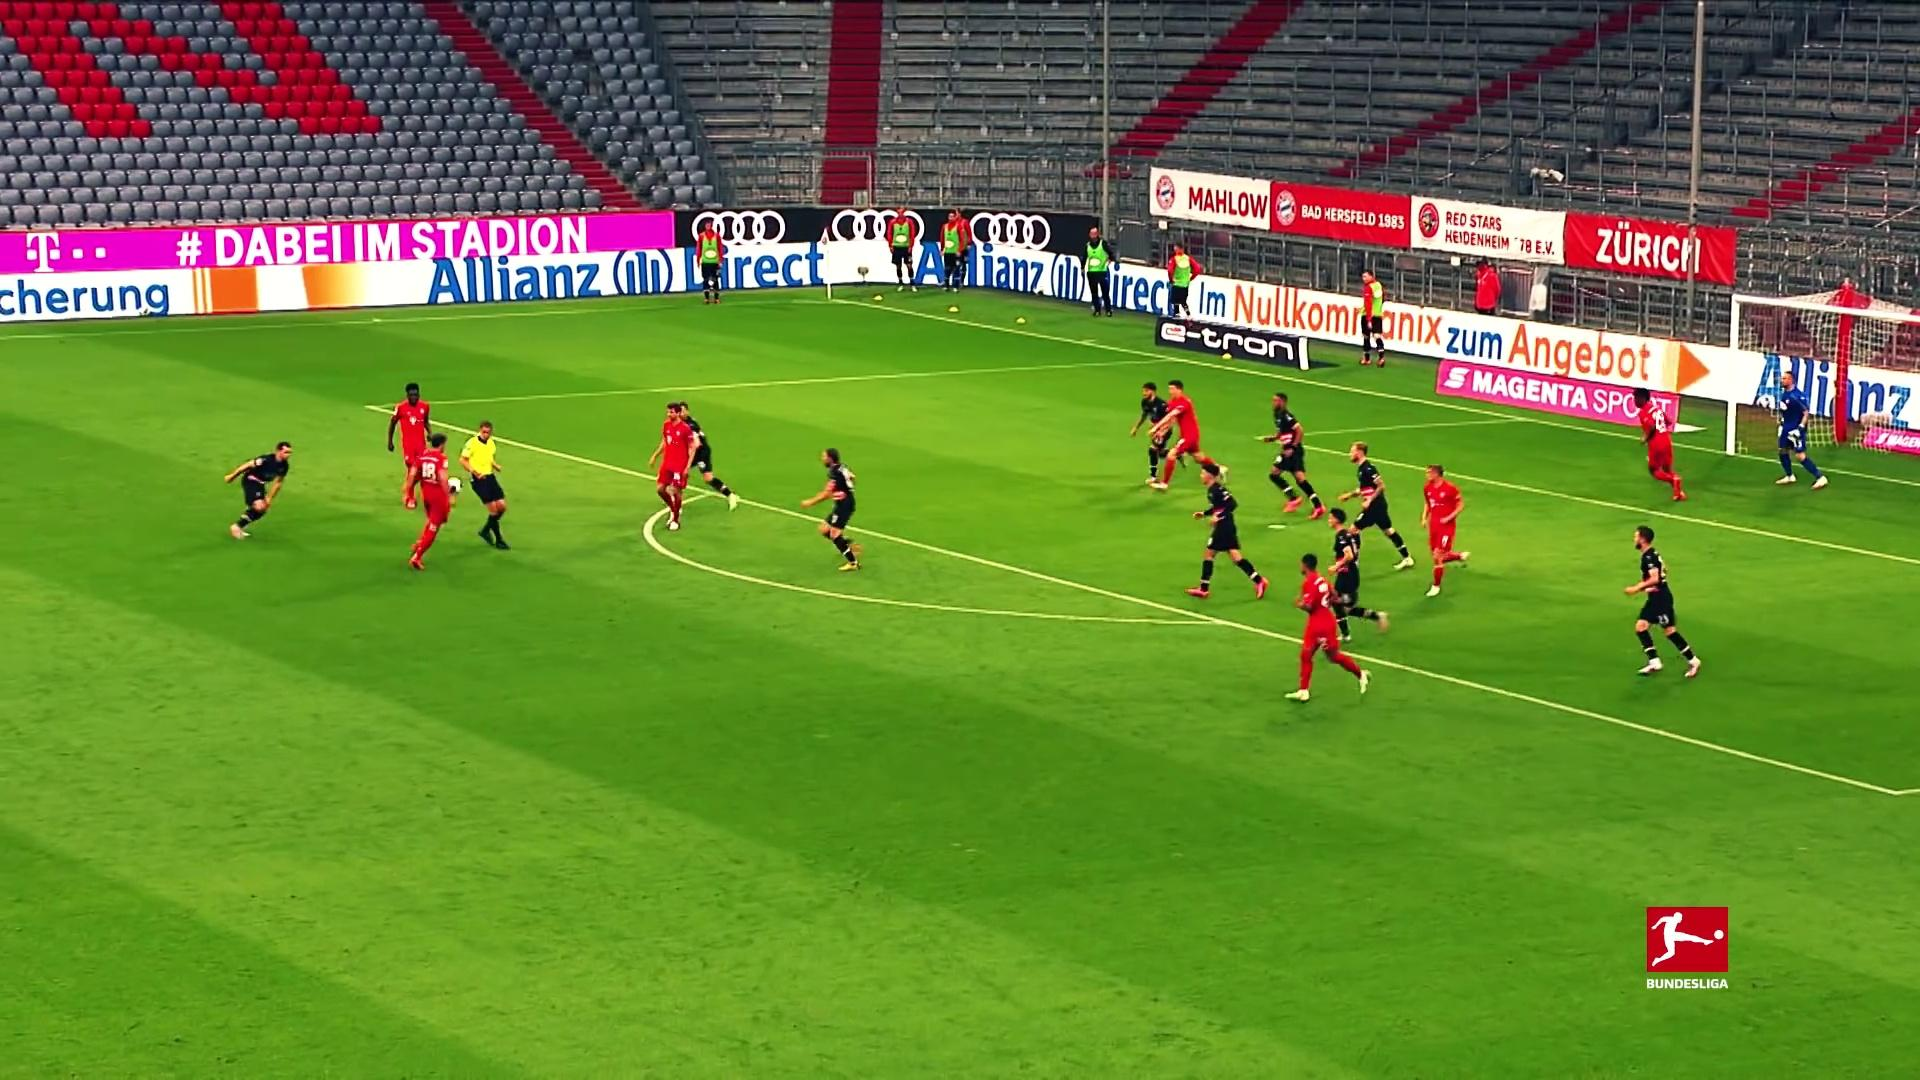ball: (445, 475, 463, 496)
goalkeeper: (1769, 369, 1830, 493)
player: (1617, 522, 1704, 684), (1283, 553, 1372, 702), (1183, 463, 1271, 603), (1327, 439, 1418, 571), (1257, 392, 1329, 521), (387, 380, 456, 512), (799, 443, 866, 573), (1325, 507, 1388, 644), (220, 436, 298, 543), (1413, 458, 1473, 597), (1155, 379, 1228, 490), (673, 400, 741, 514), (407, 440, 465, 571), (645, 402, 699, 536), (1631, 384, 1688, 507), (1132, 380, 1175, 481)
referee: (461, 417, 513, 556)
